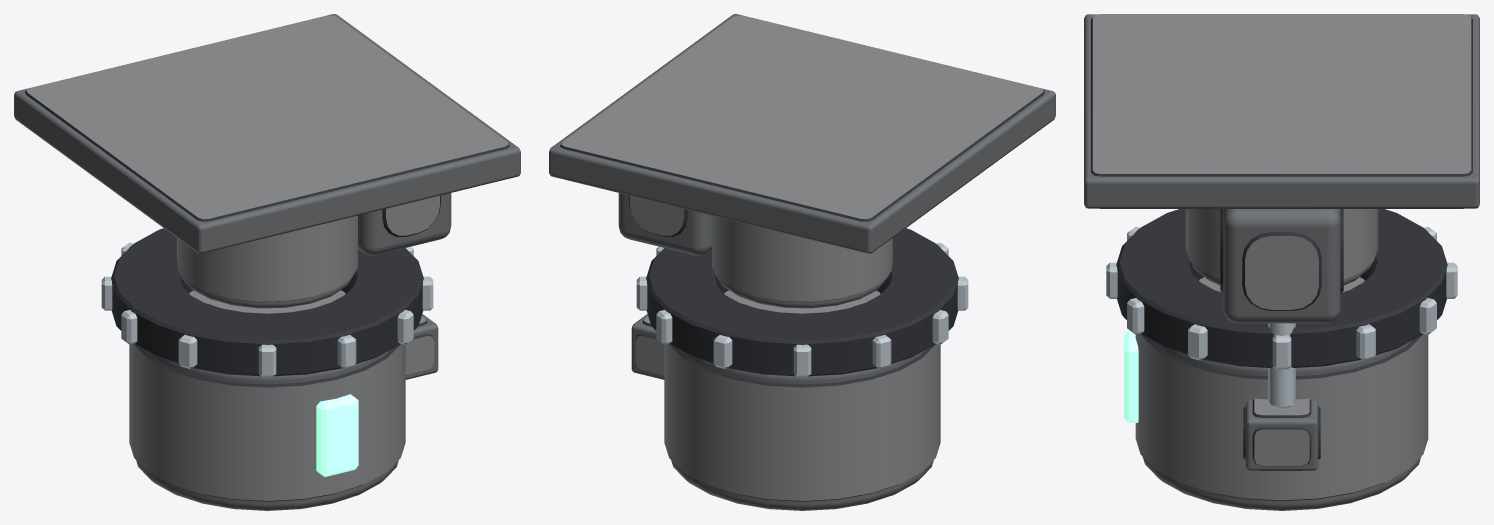
File: R4X_IndependentSteering.glb
The picture shows the model from 3 angles, left to right: view 1: azimuth 30°, elevation 25°; view 2: azimuth 150°, elevation 25°; view 3: azimuth 270°, elevation 25°; orthographic projection. The views are drawn at different scales.
Parts seen in each view (by area): view 1: R4X_IndependentSteering_Body, R4X_IndependentSteering_Turntable; view 2: R4X_IndependentSteering_Body, R4X_IndependentSteering_Turntable; view 3: R4X_IndependentSteering_Body, R4X_IndependentSteering_Turntable.
Part boxes in pixels (left/top/right/bottom): R4X_IndependentSteering_Body: left=14, top=14, right=520, bottom=377; R4X_IndependentSteering_Turntable: left=129, top=290, right=438, bottom=510; R4X_IndependentSteering_Body: left=549, top=14, right=1055, bottom=377; R4X_IndependentSteering_Turntable: left=631, top=290, right=940, bottom=510; R4X_IndependentSteering_Body: left=1084, top=14, right=1479, bottom=408; R4X_IndependentSteering_Turntable: left=1124, top=277, right=1428, bottom=510.
Size of the model in its own units: 0.517 by 0.52 by 0.514.
